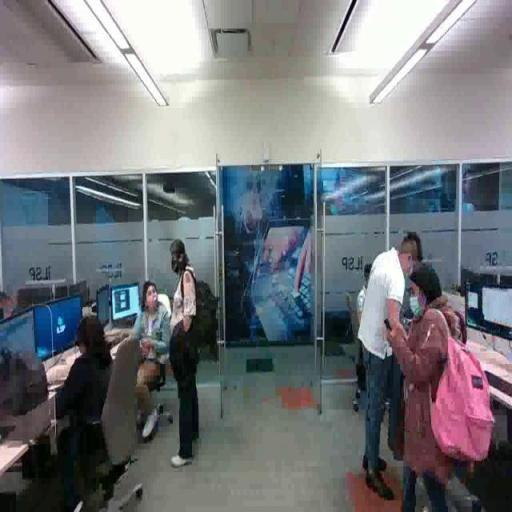person: (384, 264, 454, 512), (359, 229, 397, 503), (169, 237, 204, 470)
